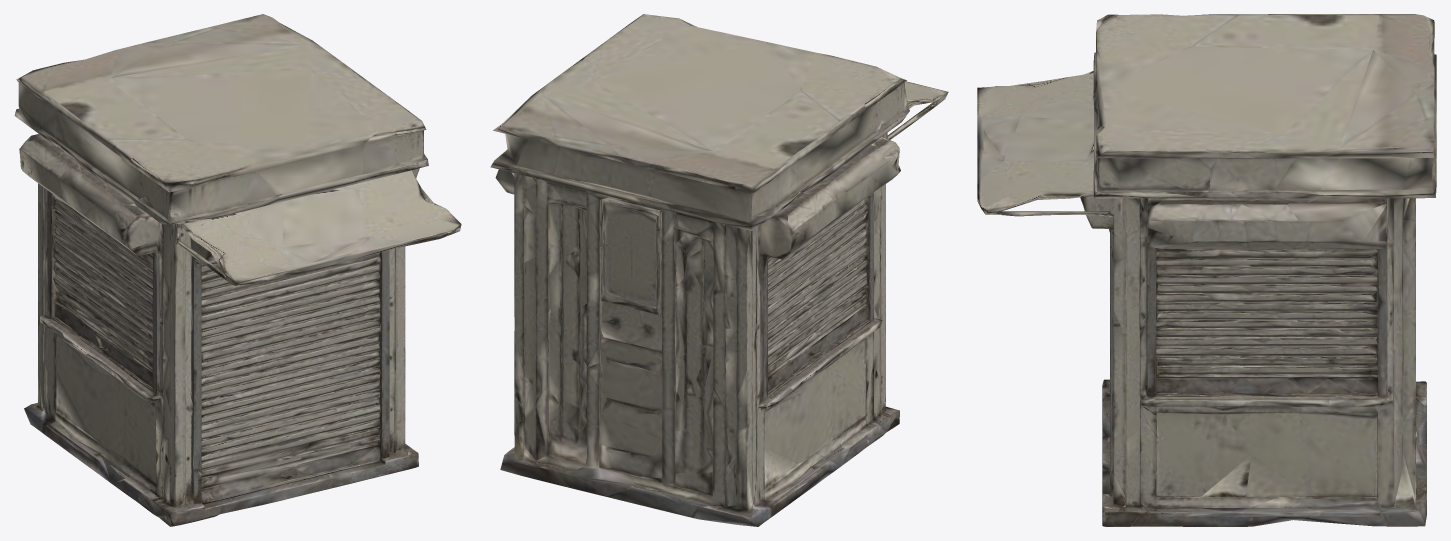
Rendered from kiosque.glb.
The picture shows the model from 3 angles, left to right: view 1: azimuth 30°, elevation 25°; view 2: azimuth 150°, elevation 25°; view 3: azimuth 270°, elevation 25°; orthographic projection. The views are drawn at different scales.
Bounding box in the file's own units: 1.54 × 1.73 × 1.9.
Materials: 1 (1 with a texture image).
